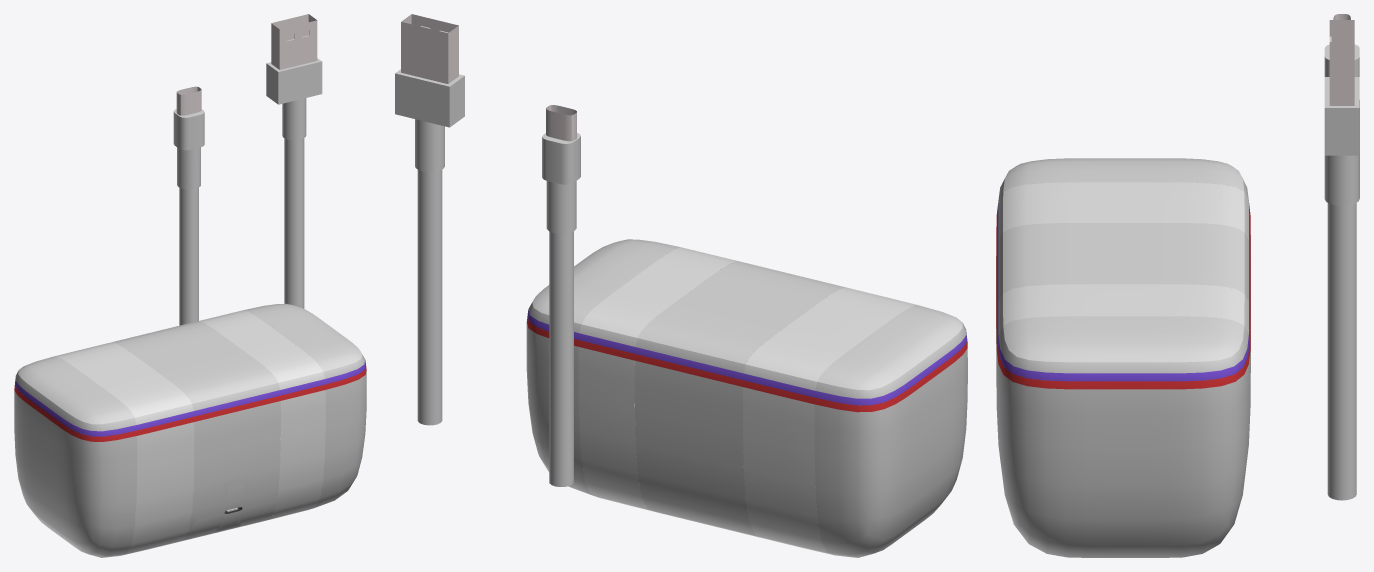
File: compactment.glb
The picture shows the model from 3 angles, left to right: view 1: azimuth 30°, elevation 25°; view 2: azimuth 150°, elevation 25°; view 3: azimuth 270°, elevation 25°; orthographic projection. The views are drawn at different scales.
Visible parts, largest first — view 1: case, usbCable, charger; view 2: case, usbCable, charger; view 3: case, usbCable, charger.
Part boxes in pixels (<box>): case: <box>14,303,366,557</box>; usbCable: <box>266,14,322,308</box>; charger: <box>173,86,204,325</box>; case: <box>526,239,967,557</box>; usbCable: <box>395,14,464,425</box>; charger: <box>542,105,580,486</box>; case: <box>996,158,1250,557</box>; usbCable: <box>1324,20,1359,500</box>; charger: <box>1324,14,1359,139</box>.
Size of the model in its own units: 0.6284 by 0.6842 by 0.3917.
